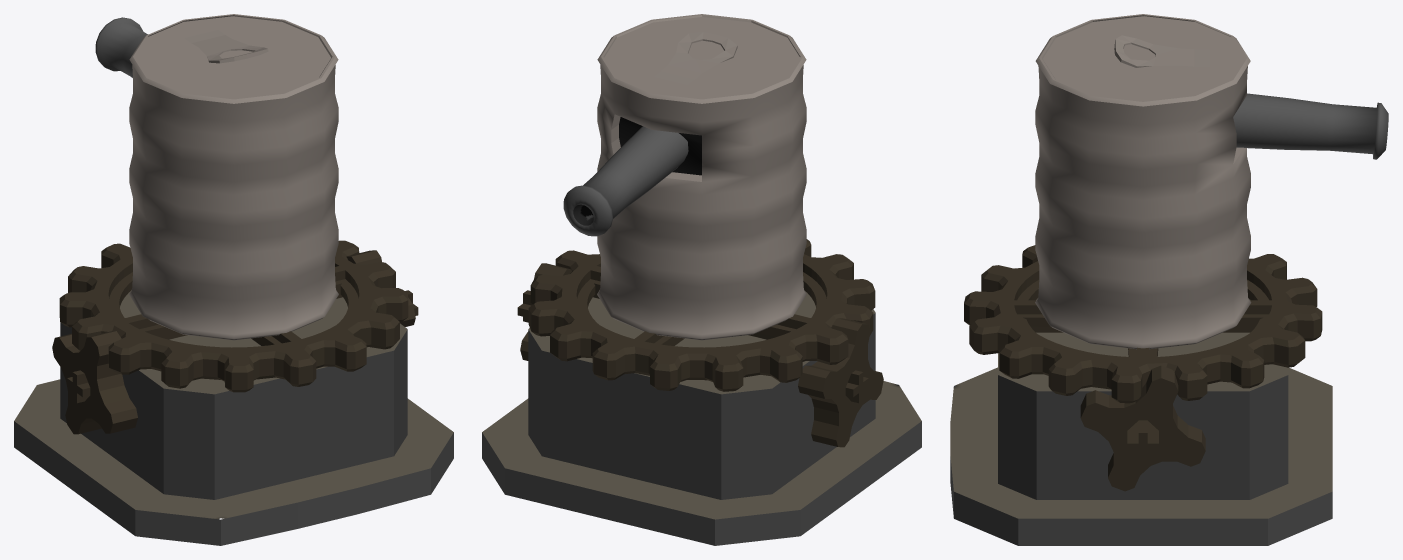
The model's file is RED_Mk1.fbx.
The picture shows the model from 3 angles, left to right: view 1: azimuth 30°, elevation 25°; view 2: azimuth 150°, elevation 25°; view 3: azimuth 270°, elevation 25°; orthographic projection. The views are drawn at different scales.
Parts seen in each view (by area): view 1: Turret_Top, TurretBottom, Left_Side_Gear, Right_Side_Gear; view 2: Turret_Top, TurretBottom, Left_Side_Gear, Right_Side_Gear; view 3: Turret_Top, TurretBottom, Right_Side_Gear.
Part boxes in pixels (left/top/right/bottom): Turret_Top: left=59, top=14, right=408, bottom=392; TurretBottom: left=14, top=291, right=453, bottom=545; Left_Side_Gear: left=52, top=331, right=137, bottom=434; Right_Side_Gear: left=346, top=250, right=418, bottom=326; Turret_Top: left=528, top=14, right=875, bottom=391; TurretBottom: left=482, top=291, right=921, bottom=545; Left_Side_Gear: left=798, top=318, right=883, bottom=447; Right_Side_Gear: left=517, top=263, right=571, bottom=360; Turret_Top: left=964, top=14, right=1388, bottom=403; TurretBottom: left=950, top=299, right=1332, bottom=545; Right_Side_Gear: left=1080, top=365, right=1205, bottom=491.
Bounding box in the file's own units: 266 × 309 × 292.
